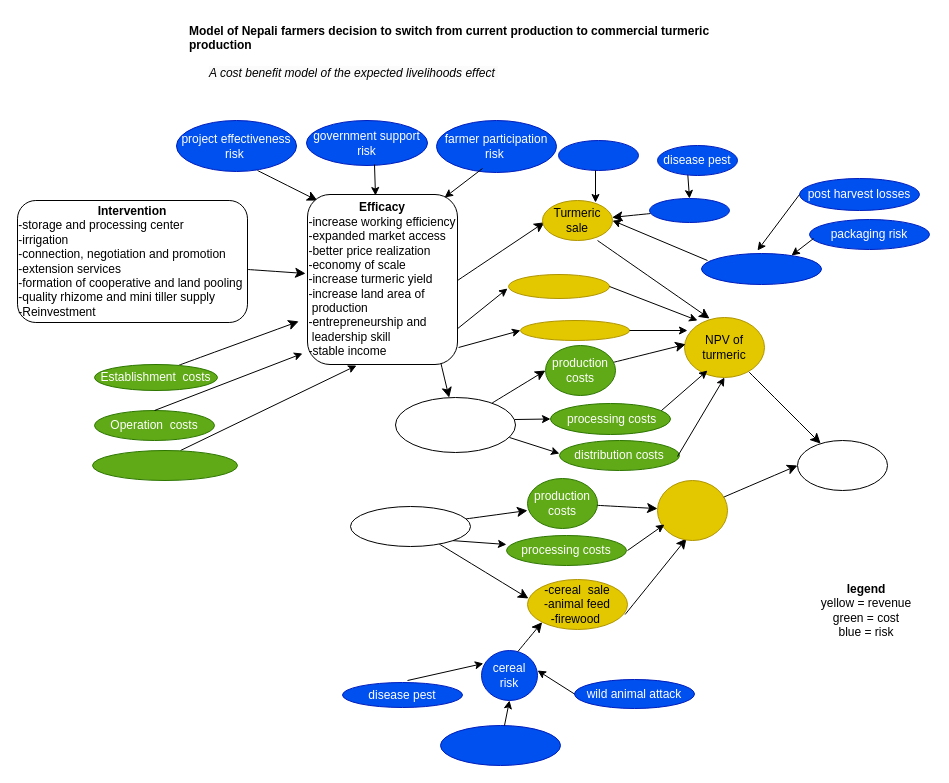
This 949x783 diagram has some shape labels left out. Here are the shapes that lost their labels. From the top down, the box of each, then its label:
(558, 140, 638, 170): market risk
(648, 198, 730, 222): turmeric risk
(508, 274, 610, 298): capacity building
(700, 252, 822, 284): postharvest risk
(520, 320, 630, 340): improve livelihood
(394, 396, 516, 452): Turmeric production
(92, 450, 238, 480): communication and marketing costs
(796, 440, 888, 490): Comparative NPV
(350, 506, 470, 546): cereal production
(656, 480, 728, 540): NPV of cereal
(440, 724, 560, 766): extremes climatic events
